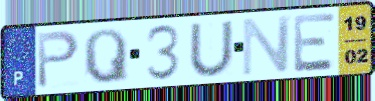3: (145, 23, 182, 82)
E: (291, 10, 338, 74)
N: (240, 13, 294, 78)
P: (35, 29, 82, 91)
Q: (81, 27, 131, 86)
U: (187, 18, 237, 78)
